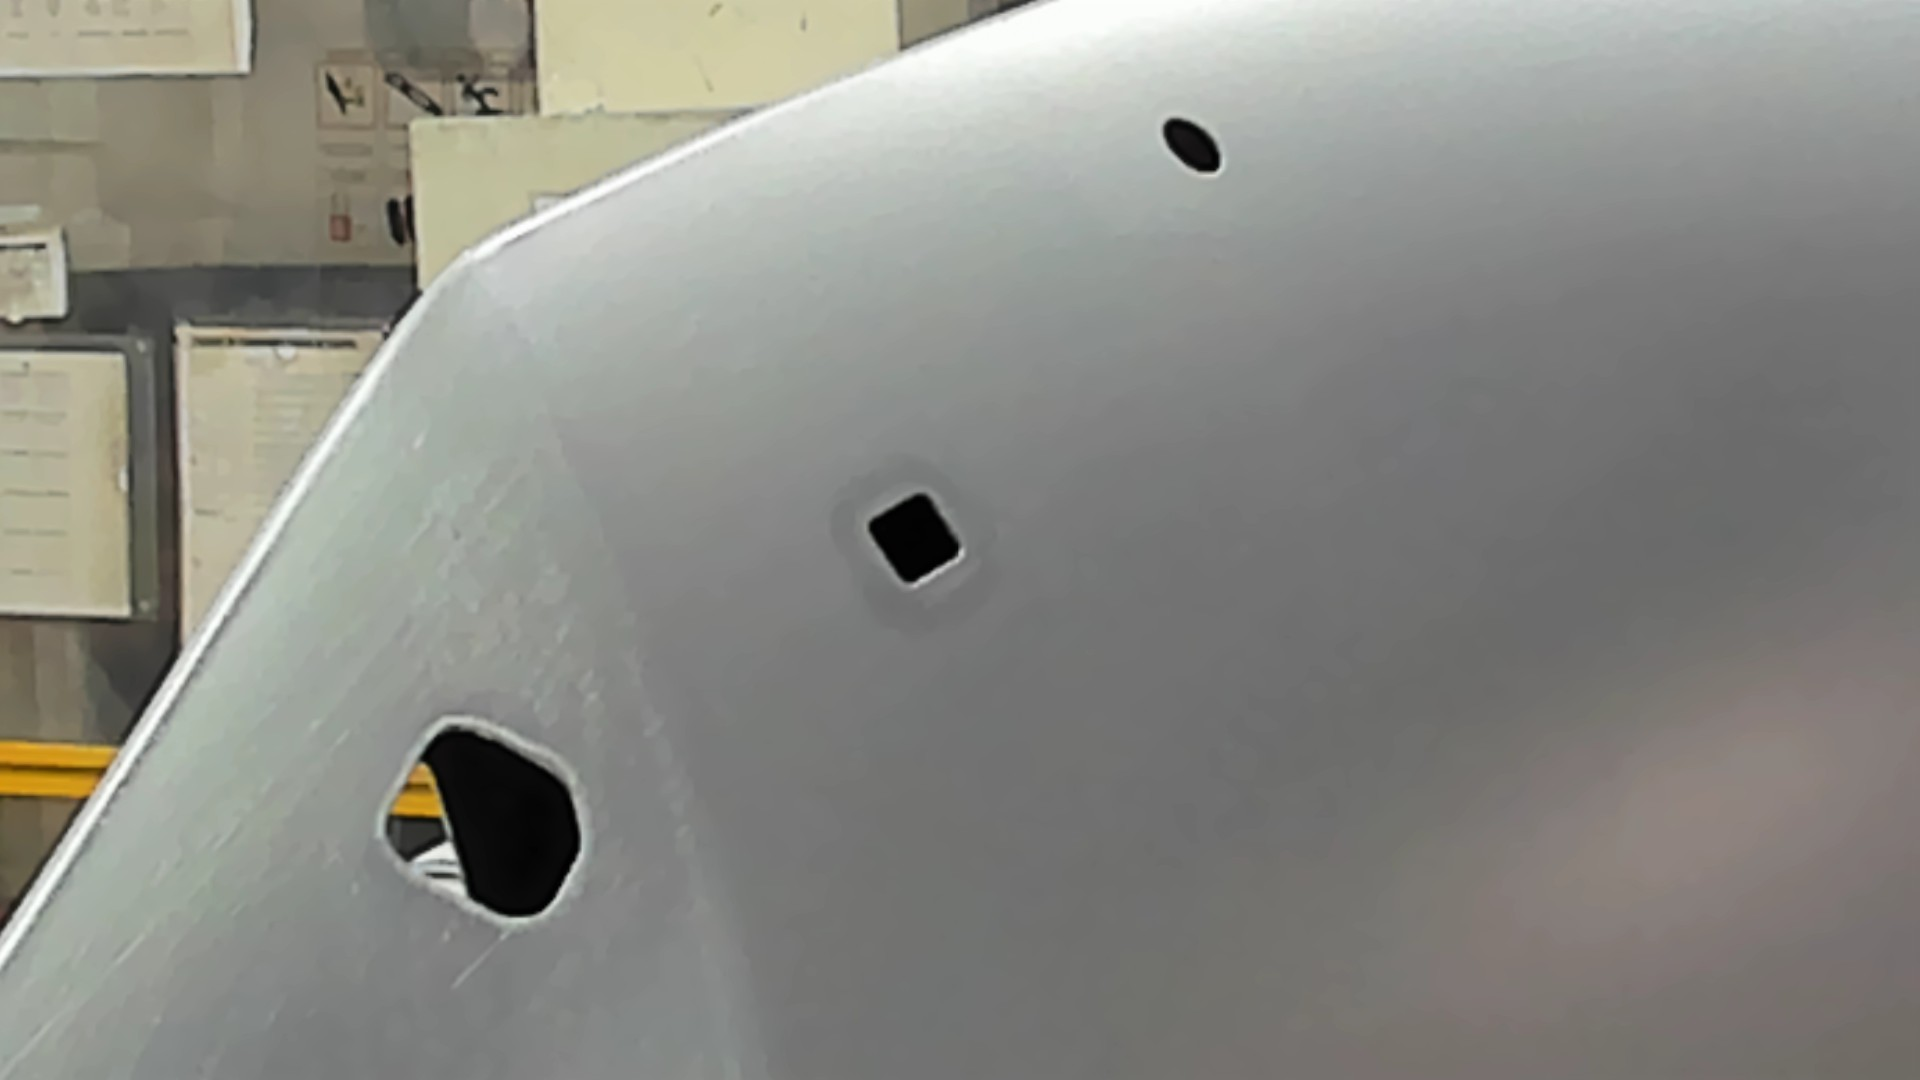chico: (1156, 113, 1229, 182)
grande: (369, 709, 591, 942)
mediano: (858, 483, 968, 595)
